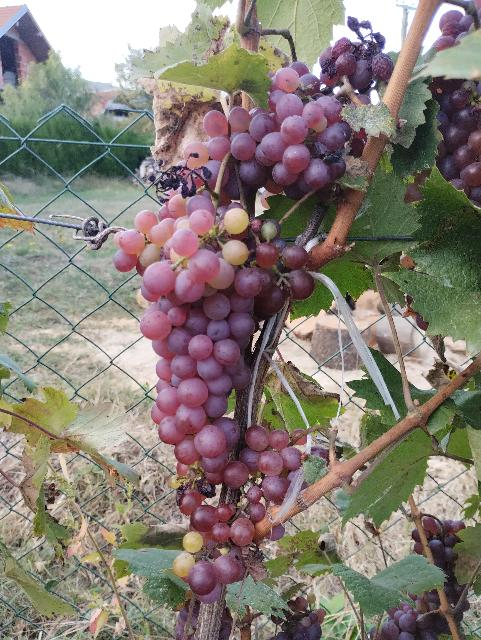grapes: (114, 175, 315, 640), (184, 62, 361, 199), (425, 66, 481, 206), (435, 1, 481, 52)
